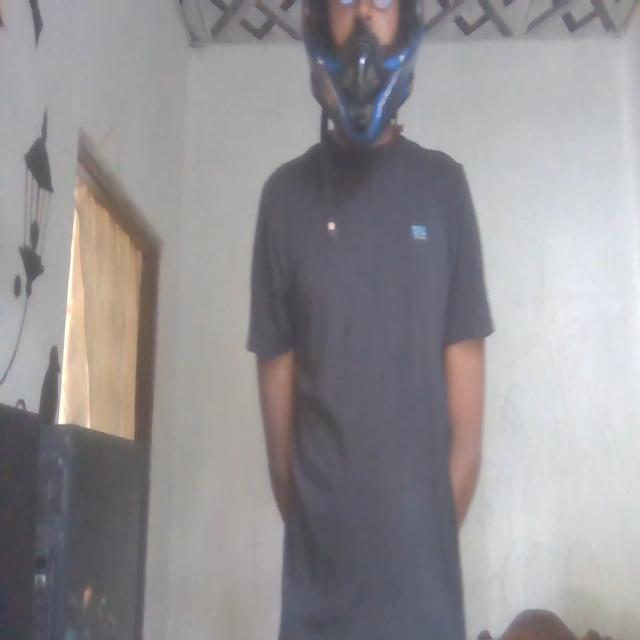Helmet_Wearer: (289, 0, 445, 171)
Person: (236, 0, 500, 640)
